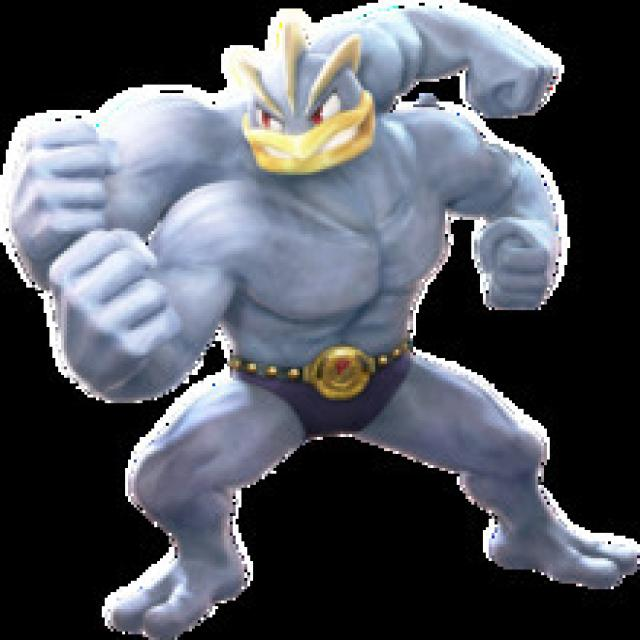Machamp: (116, 26, 566, 608)
